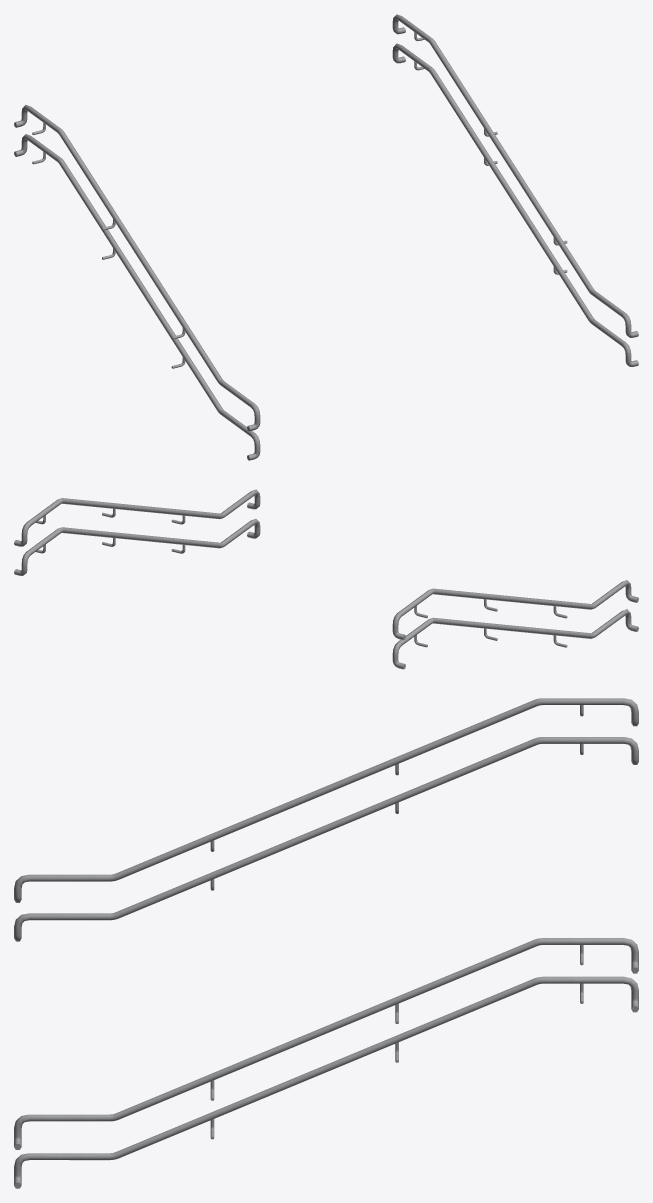
File: gteki_ik_stair_n6_r152_t332_w2609_rails_wall.glb
3 views of the same model, one above another, from view 1: azimuth 30°, elevation 25°; view 2: azimuth 150°, elevation 25°; view 3: azimuth 270°, elevation 25° (orthographic). The views are drawn at different scales.
Visible parts, largest first — view 1: VIS_handrails, VIS_rail_supports; view 2: VIS_handrails, VIS_rail_supports; view 3: VIS_handrails, VIS_rail_supports.
Boxes of the visible parts, box(x1,y1,x2,y2) form: VIS_handrails: box(14, 14, 638, 460); VIS_rail_supports: box(32, 32, 567, 368); VIS_handrails: box(14, 489, 638, 669); VIS_rail_supports: box(35, 508, 567, 647); VIS_handrails: box(14, 698, 638, 1188); VIS_rail_supports: box(210, 705, 583, 1139).
Size of the model in its own units: 2.83 by 1.27 by 2.93.
1 material, 1 textured.
